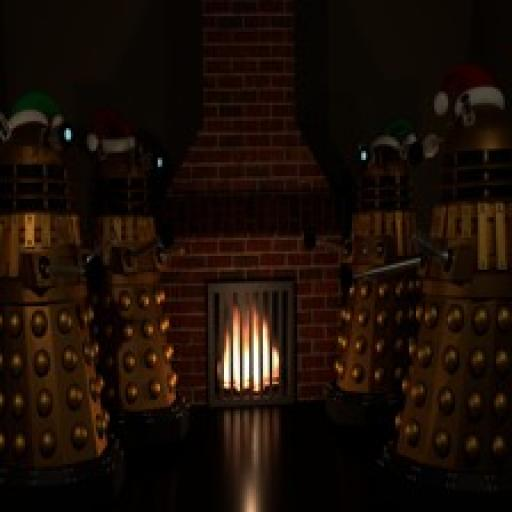dalek: (327, 57, 512, 512), (0, 86, 132, 502), (298, 121, 423, 428), (78, 112, 192, 440)
